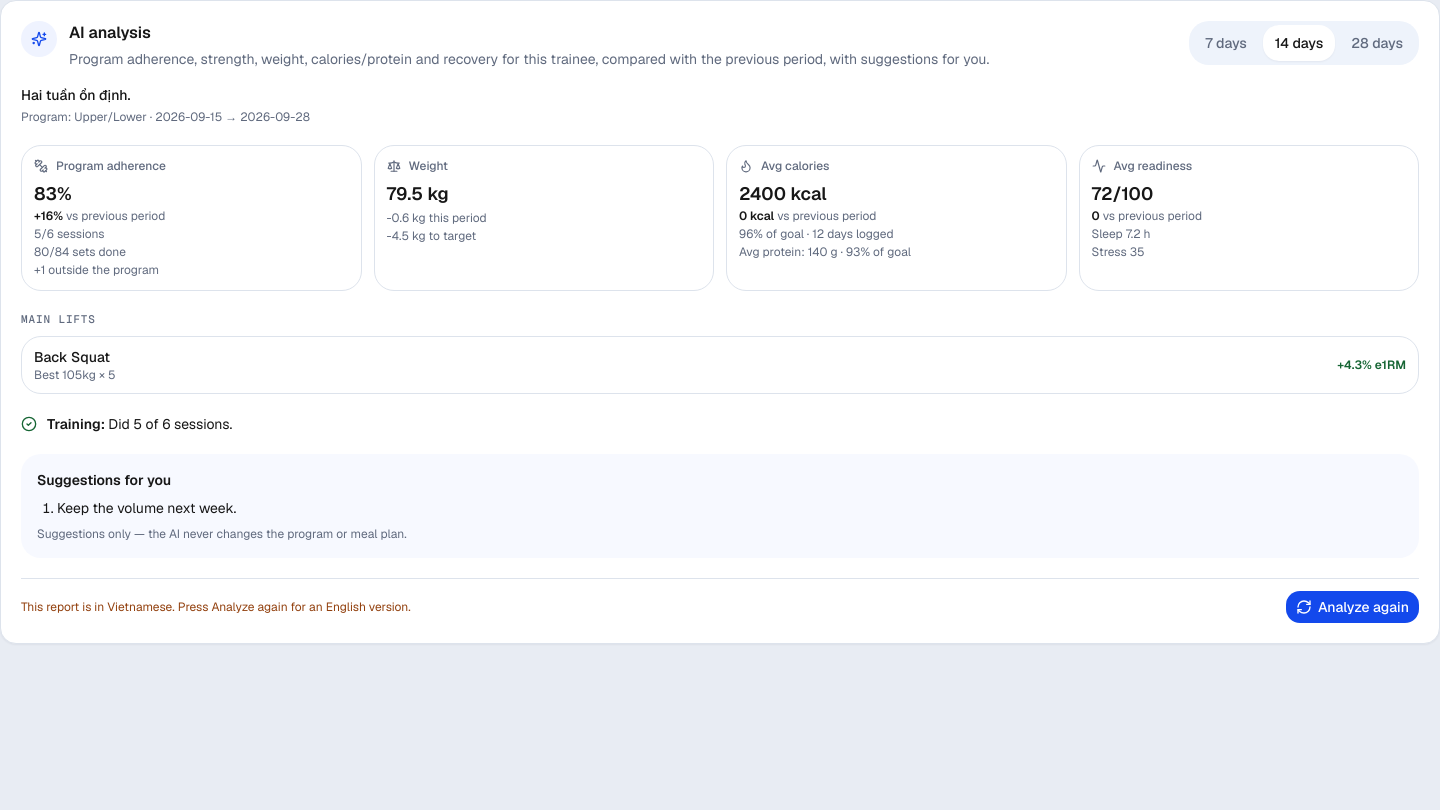
Test case: TraineeAIInsightPanel › offers to redo a report written in the other language
The image size is (1440, 810).
expect the text "Hai tuần ổn định." is shown: met, box [21, 86, 131, 104]
expect the text "This report is in Vietnamese" is shown: met, box [21, 598, 411, 614]
What coordinates should you click on to do the following:
click the button "Analyze again"
I would click on:
 (1352, 606)
Its box is [1286, 590, 1419, 622].
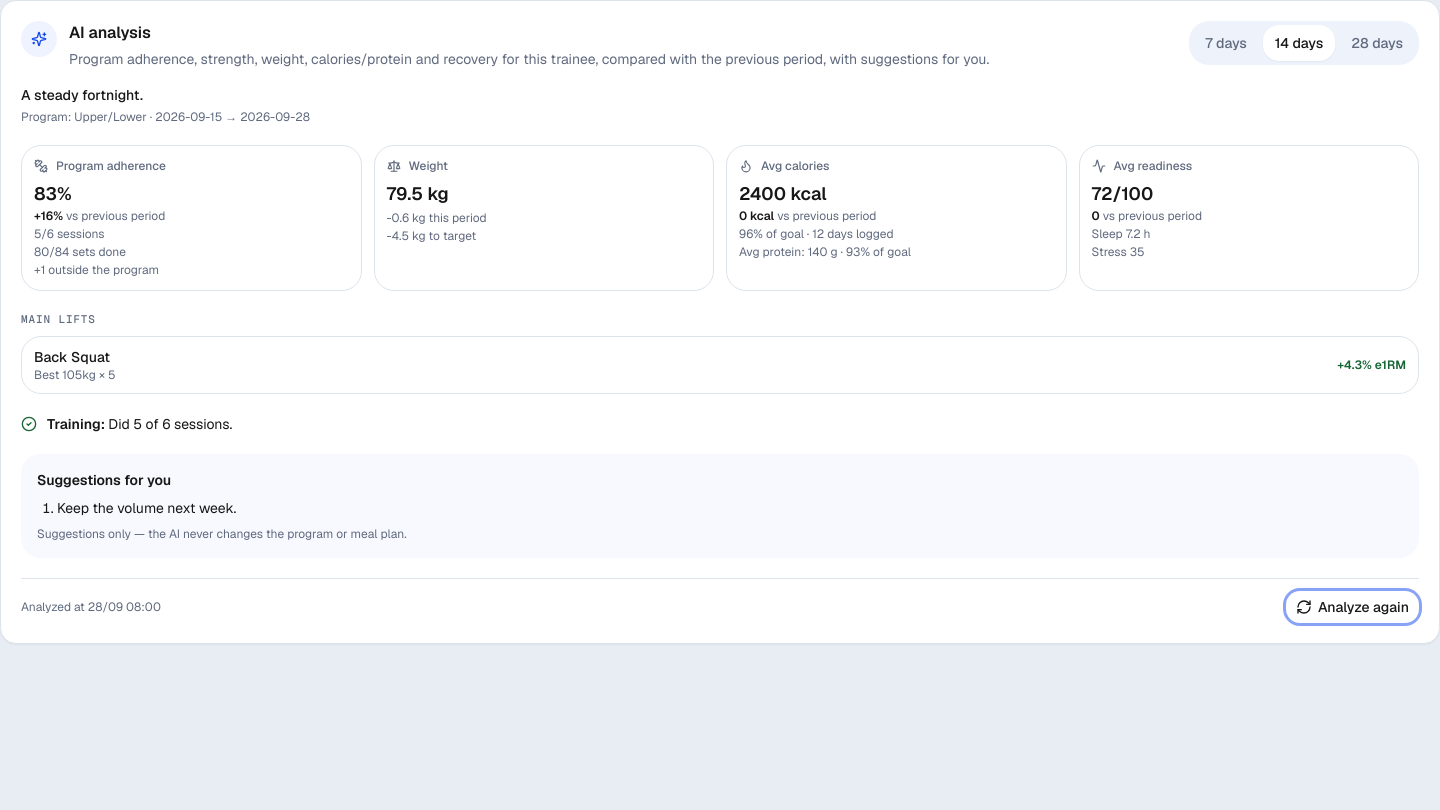
expect the text "A steady fortnight." is shown: met, box [21, 86, 143, 104]
